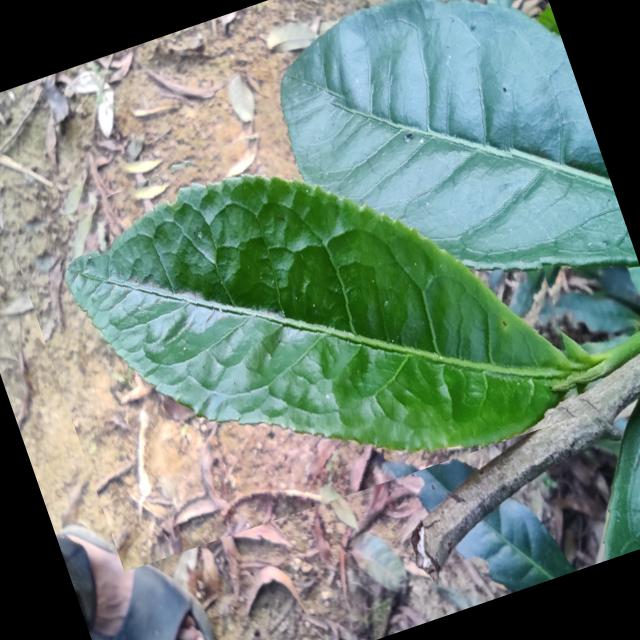Category D(7+ days, Not for Tea): (0, 37, 605, 571)
